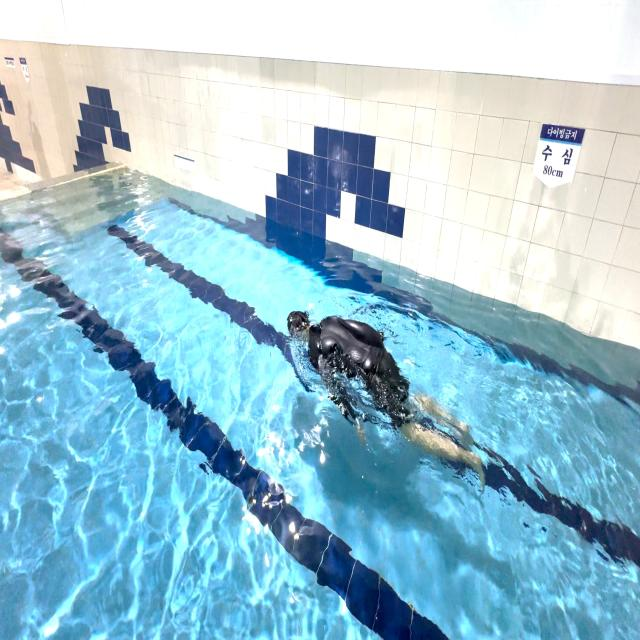Drowning: (281, 297, 498, 512)
